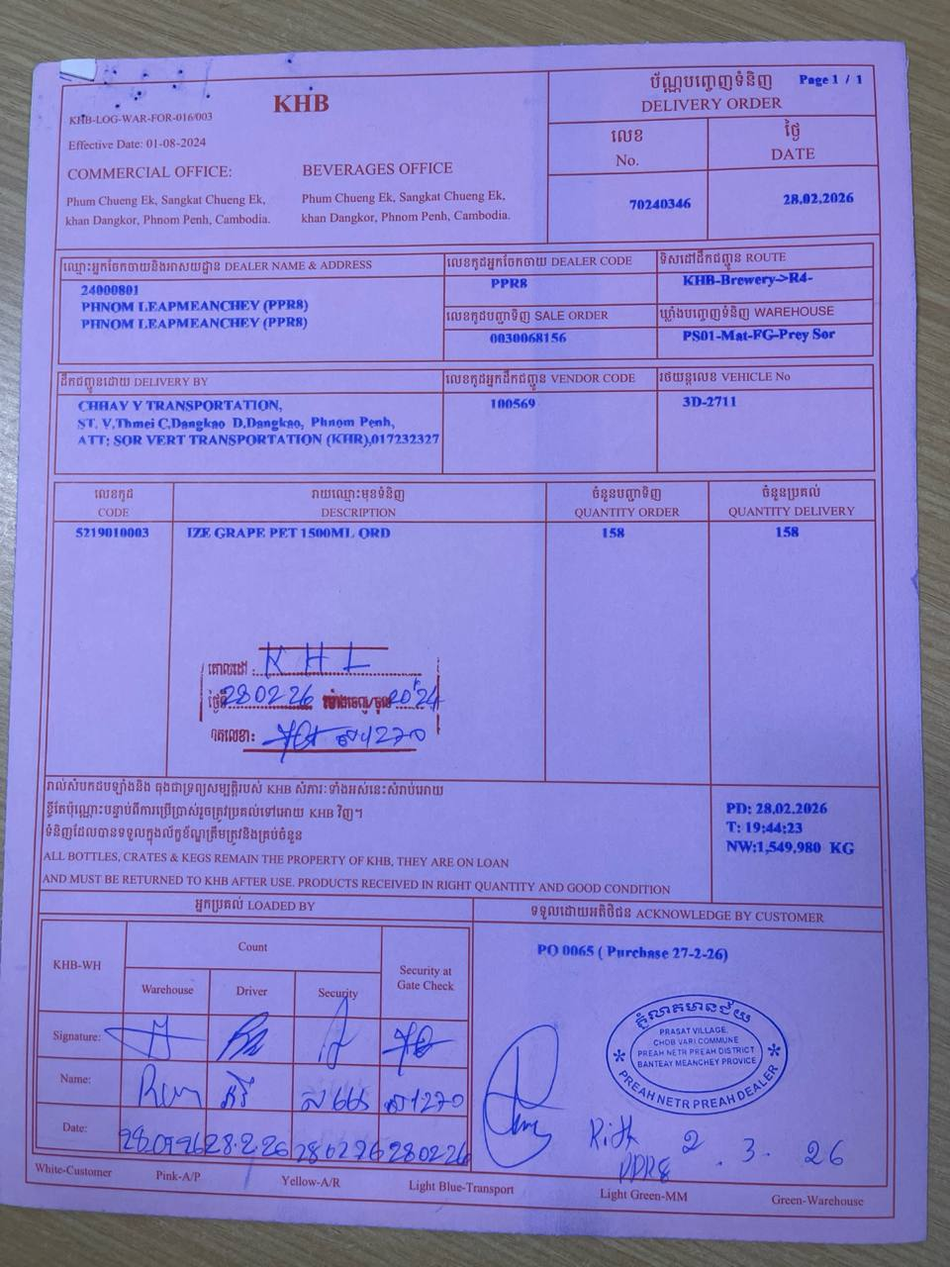Dealer Code: (435, 244, 657, 303)
Invoice Date: (707, 165, 879, 241)
Invoice No: (544, 172, 709, 242)
Sale Order: (435, 302, 657, 362)
Vehicle Code: (655, 364, 883, 477)
Vender Code: (438, 362, 656, 480)
